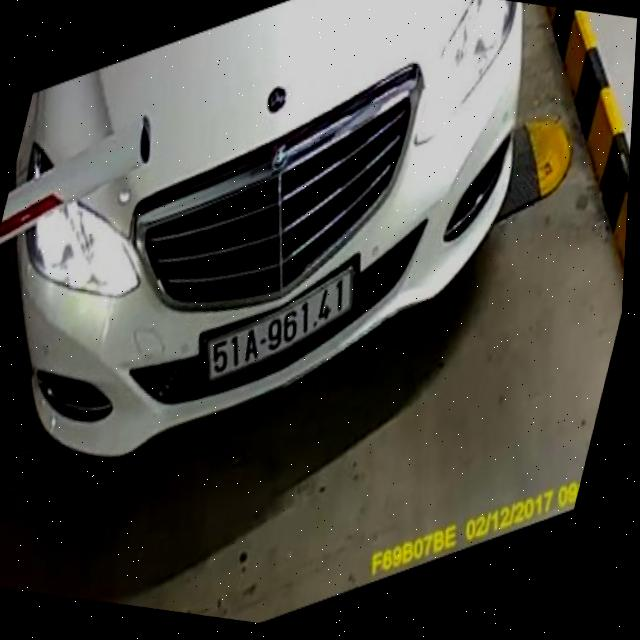car: (0, 0, 557, 532)
plate: (192, 243, 366, 408)
